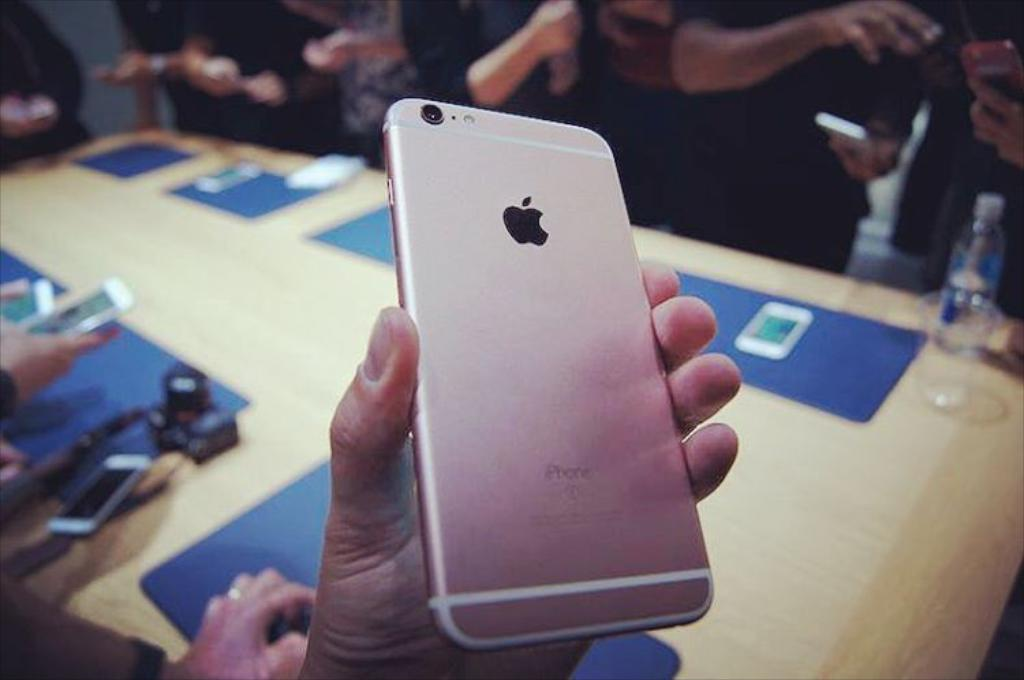mobile phone: (47, 454, 151, 537), (738, 300, 813, 360), (197, 152, 262, 189)
